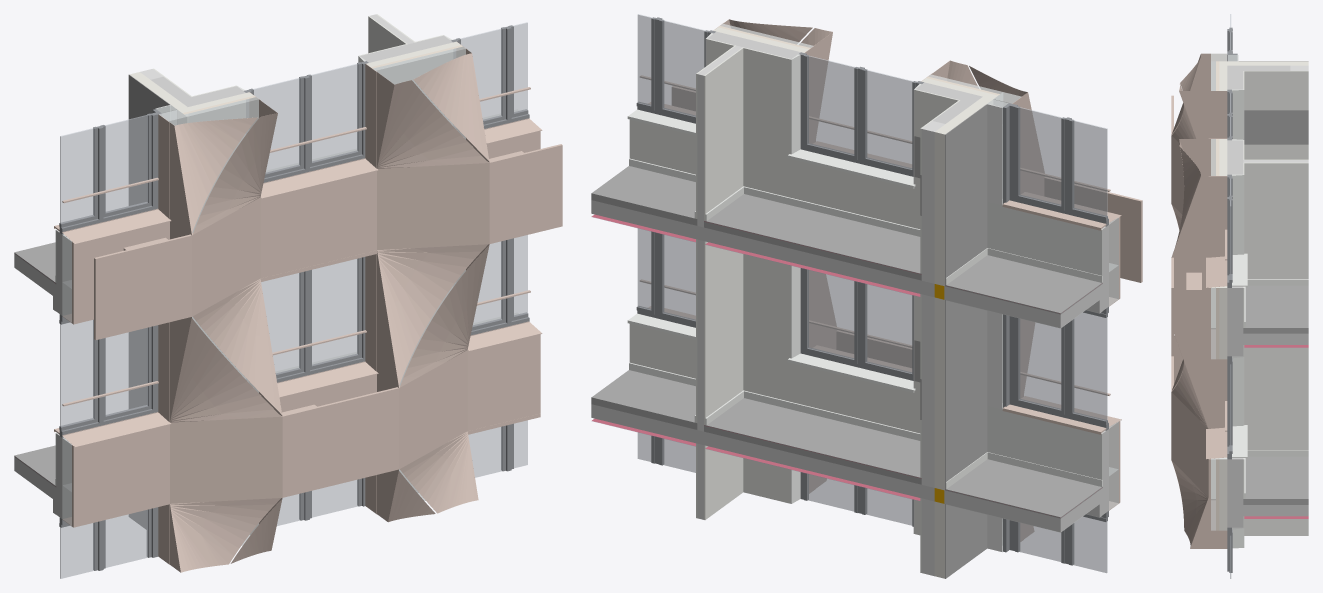
Rendered from Car_Building_1.glb.
The picture shows the model from 3 angles, left to right: view 1: azimuth 30°, elevation 25°; view 2: azimuth 150°, elevation 25°; view 3: azimuth 270°, elevation 25°; orthographic projection. The views are drawn at different scales.
Parts seen in each view (by area): view 1: MD_??_???_40 (×10), MD_??_ ??? ?????_2 (×12), MD_??_???_40 ?????????? (×3), ??14 26-18 (×3), ??1.1 18-18_?/? (×3), ??3.2 26-18_?/? (×3), ?????_????????????? (×6), MD_??_ ???_2 (×5), ???????????? (×4), MD_??_ ??? 180 ?? 80 _260, MD_??_ ???_??????? ???????????? ?? ?????_10 (×2), MD_??_??? ?25 W4 F75_250 (×2) (+5 smaller); view 2: MD_??_??_?3.3_(?? ??? 1) ??_?? ??? (???????? ?????)_20 (×6), ??1.1 18-18_?/? (×3), ??14 26-18 (×3), MD_??_?17_??? ??????_100?? (×2), MD_??_ ???_??????? ???????????? ?? ?????_10 (×3), MD_??_??? ?25 W4 F75_200 (×2), MD_??_ ?3.1_(?? ??? 1)_??_?? ???, ???_20 (×3), ??3.2 26-18_?/? (×3), MD_??_ ?2.3_??? ??????_20 (×2), MD_??_?18_??????_20 (×2), MD_??_?16_???????_100?? (×2), ??? (×6) (+16 smaller); view 3: MD_??_ ?3.1_(?? ??? 1)_??_?? ???, ???_20 (×3), MD_??_ ???_2 (×6), MD_??_?16_???????_100?? (×2), MD_??_???_40 (×6), ???????????? (×6), MD_??_ ??? 180 ?? 80 _260 (×3), MD_??_ ??? ?????_2 (×5), MD_??_??? 10-35 (×4), MD_??_??? ?25 W4 F75_250 (×4), MD_??_??_?3.3_(?? ??? 1) ??_?? ??? (???????? ?????)_20 (×2), MD_??_??? ?25 W4 F75_200 (×3), ??3.2 26-18_?/? (×3) (+13 smaller).
Part boxes in pixels (bbox=[...]): MD_??_???_40 (×10): bbox=[72, 131, 540, 527]; MD_??_ ??? ?????_2 (×12): bbox=[170, 53, 489, 572]; MD_??_???_40 ?????????? (×3): bbox=[94, 144, 562, 497]; ??14 26-18 (×3): bbox=[59, 112, 158, 578]; ??1.1 18-18_?/? (×3): bbox=[244, 61, 368, 525]; ??3.2 26-18_?/? (×3): bbox=[451, 22, 529, 477]; ?????_????????????? (×6): bbox=[62, 118, 542, 447]; MD_??_ ???_2 (×5): bbox=[170, 72, 398, 521]; ???????????? (×4): bbox=[158, 64, 376, 422]; MD_??_ ??? 180 ?? 80 _260: bbox=[178, 41, 465, 232]; MD_??_ ???_??????? ???????????? ?? ?????_10 (×2): bbox=[128, 74, 170, 408]; MD_??_??? ?25 W4 F75_250 (×2): bbox=[179, 35, 452, 232]; MD_??_??_?3.3_(?? ??? 1) ??_?? ??? (???????? ?????)_20 (×6): bbox=[629, 38, 959, 503]; ??1.1 18-18_?/? (×3): bbox=[798, 52, 923, 526]; ??14 26-18 (×3): bbox=[1009, 104, 1108, 572]; MD_??_?17_??? ??????_100?? (×2): bbox=[704, 194, 921, 484]; MD_??_ ???_??????? ???????????? ?? ?????_10 (×3): bbox=[945, 104, 987, 578]; MD_??_??? ?25 W4 F75_200 (×2): bbox=[591, 200, 1108, 532]; MD_??_ ?3.1_(?? ??? 1)_??_?? ???, ???_20 (×3): bbox=[704, 47, 743, 519]; ??3.2 26-18_?/? (×3): bbox=[636, 14, 715, 472]; MD_??_ ?2.3_??? ??????_20 (×2): bbox=[987, 201, 1102, 486]; MD_??_?18_??????_20 (×2): bbox=[945, 255, 1102, 518]; MD_??_?16_???????_100?? (×2): bbox=[591, 166, 697, 429]; ??? (×6): bbox=[627, 109, 1106, 434]; MD_??_ ?3.1_(?? ??? 1)_??_?? ???, ???_20 (×3): bbox=[1244, 162, 1308, 535]; MD_??_ ???_2 (×6): bbox=[1171, 53, 1208, 548]; MD_??_?16_???????_100?? (×2): bbox=[1243, 285, 1308, 504]; MD_??_???_40 (×6): bbox=[1171, 135, 1210, 527]; ???????????? (×6): bbox=[1208, 53, 1227, 548]; MD_??_ ??? 180 ?? 80 _260 (×3): bbox=[1211, 61, 1227, 530]; MD_??_ ??? ?????_2 (×5): bbox=[1172, 54, 1208, 547]; MD_??_??? 10-35 (×4): bbox=[1232, 89, 1244, 548]; MD_??_??? ?25 W4 F75_250 (×4): bbox=[1227, 65, 1243, 504]; MD_??_??_?3.3_(?? ??? 1) ??_?? ??? (???????? ?????)_20 (×2): bbox=[1244, 71, 1290, 159]; MD_??_??? ?25 W4 F75_200 (×3): bbox=[1227, 65, 1308, 516]; ??3.2 26-18_?/? (×3): bbox=[1227, 174, 1232, 578].
Size of the model in its own units: 7.22 by 6.53 by 2.18.
